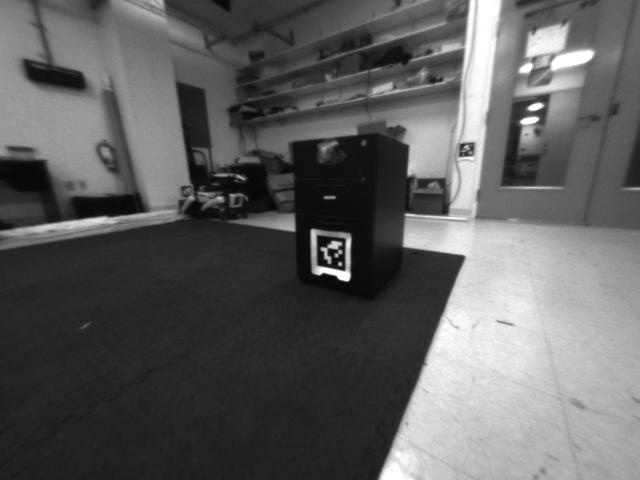door_handle: (572, 109, 603, 126)
drawer: (309, 134, 345, 168)
